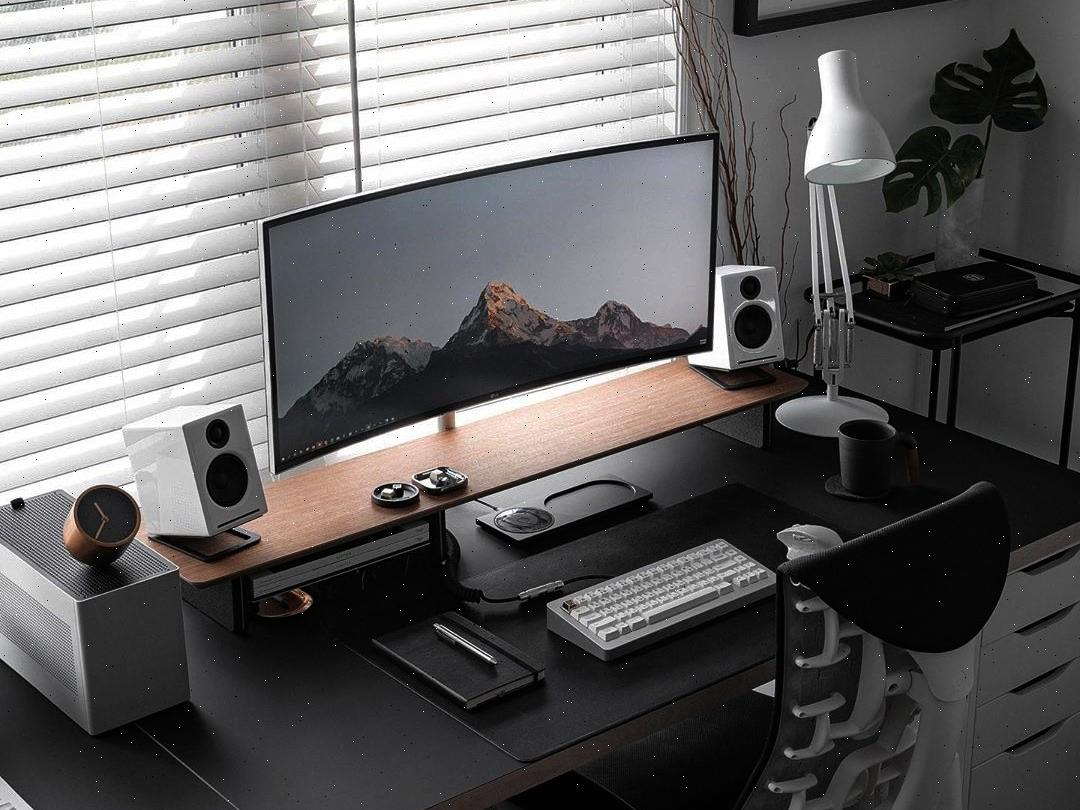keyboard: (524, 532, 789, 670)
monitor: (253, 129, 730, 487)
mouse: (767, 509, 855, 576)
